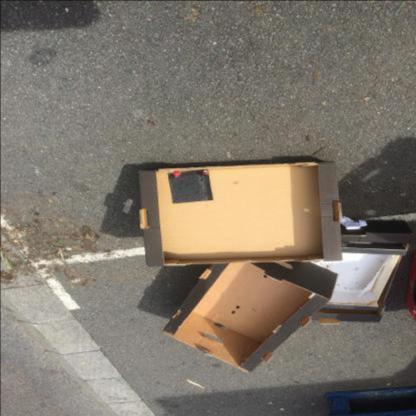Carton: (138, 162, 343, 267), (162, 261, 339, 373), (310, 220, 414, 324)
Other litter: (200, 169, 209, 175), (172, 172, 181, 178)
Unlabeled litter: (186, 379, 204, 388)
